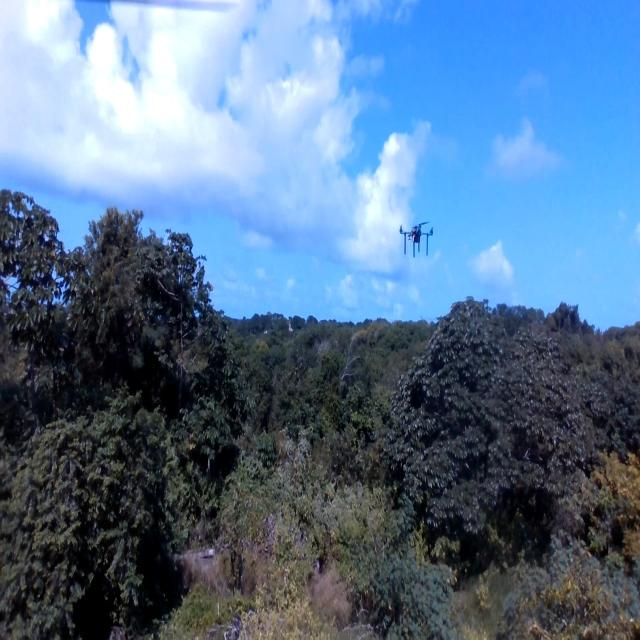-uav-: (393, 212, 446, 281)
